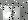person: (4, 7, 13, 20), (15, 7, 21, 20)
